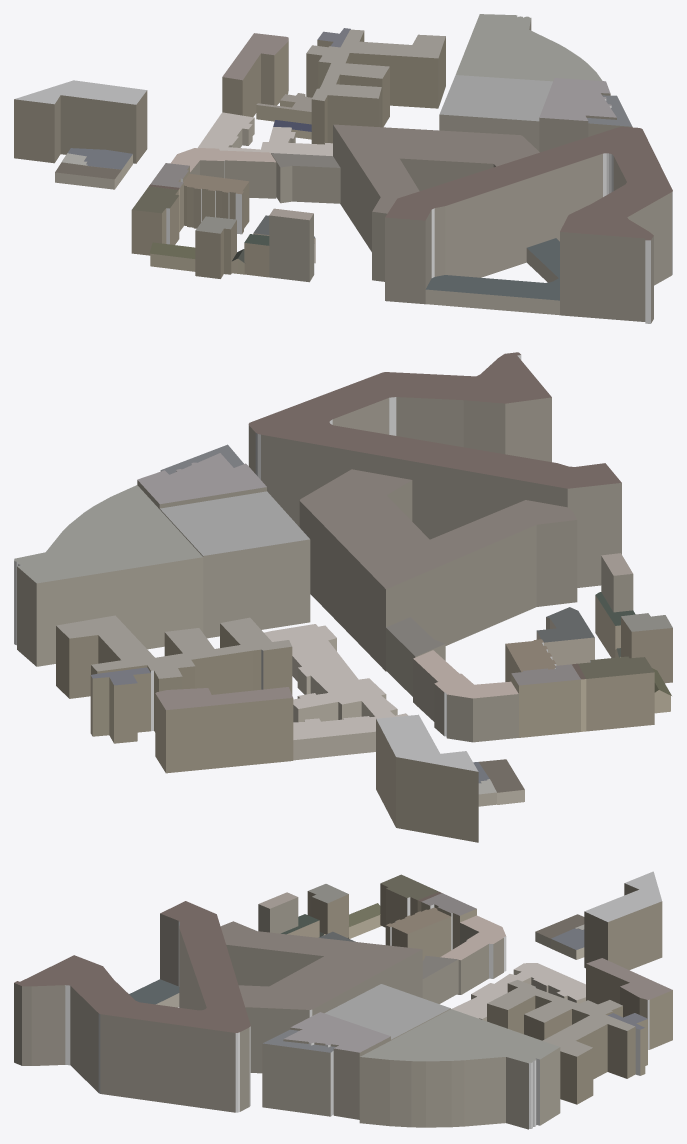
3 renders of one model, top to bottom at view 1: azimuth 30°, elevation 25°; view 2: azimuth 150°, elevation 25°; view 3: azimuth 270°, elevation 25°, orthographic. The views are drawn at different scales.
Parts seen in each view (by area): view 1: tuile; view 2: tuile; view 3: tuile.
Part boxes in pixels (x1,y1,x2,y2): tuile: [14, 14, 672, 323]; tuile: [14, 352, 672, 842]; tuile: [14, 871, 672, 1129].
Size of the model in its own units: 239 by 43.84 by 306.
